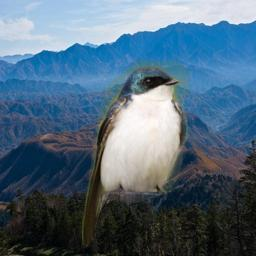Swallow: (82, 59, 190, 247)
